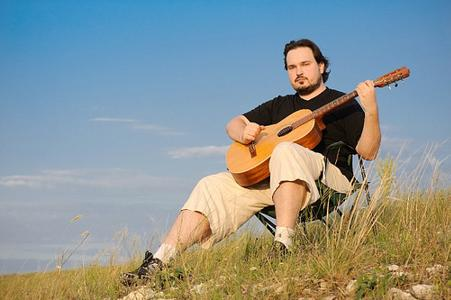person: (121, 38, 382, 286)
